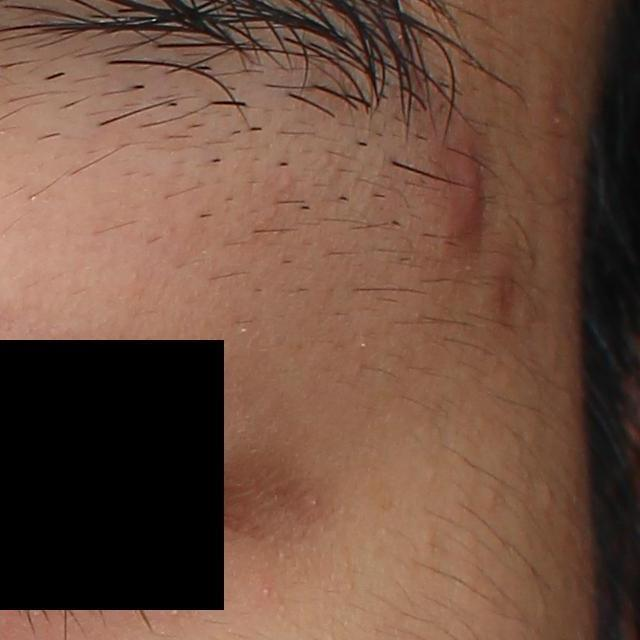papule: (449, 145, 492, 235)
